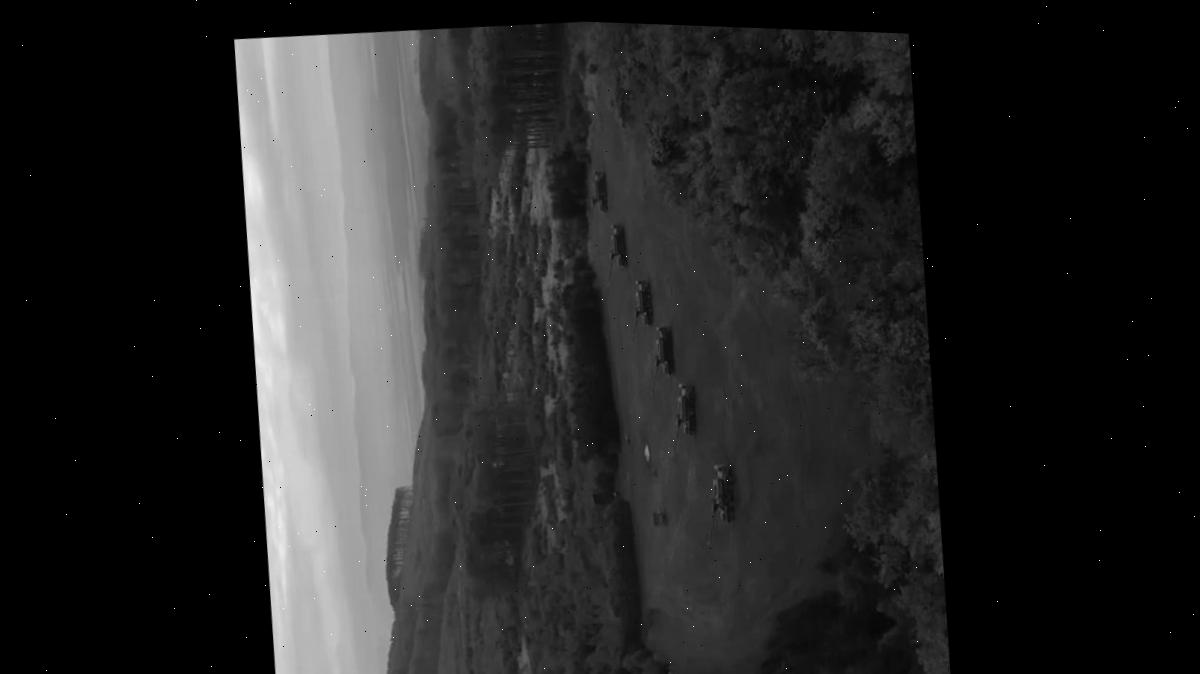sau: (699, 460, 743, 547), (663, 380, 702, 457), (644, 323, 680, 397), (625, 277, 657, 344), (602, 221, 631, 280), (583, 168, 611, 228)
